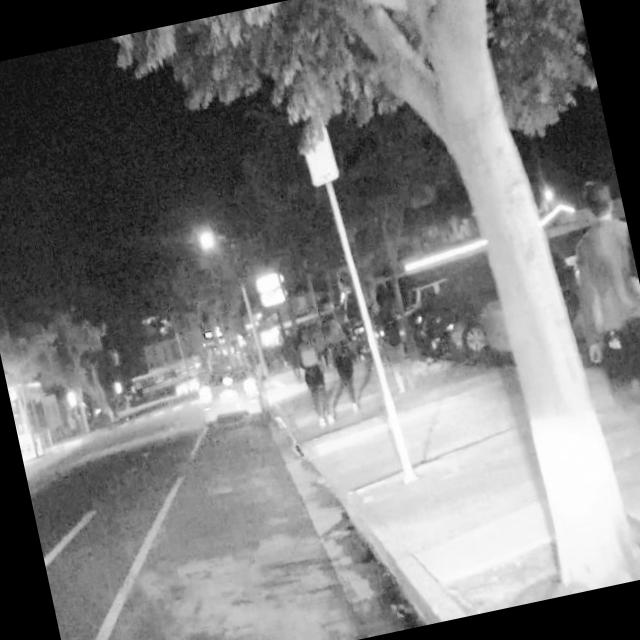Sign: (302, 136, 343, 187)
Tree: (387, 0, 640, 604)
